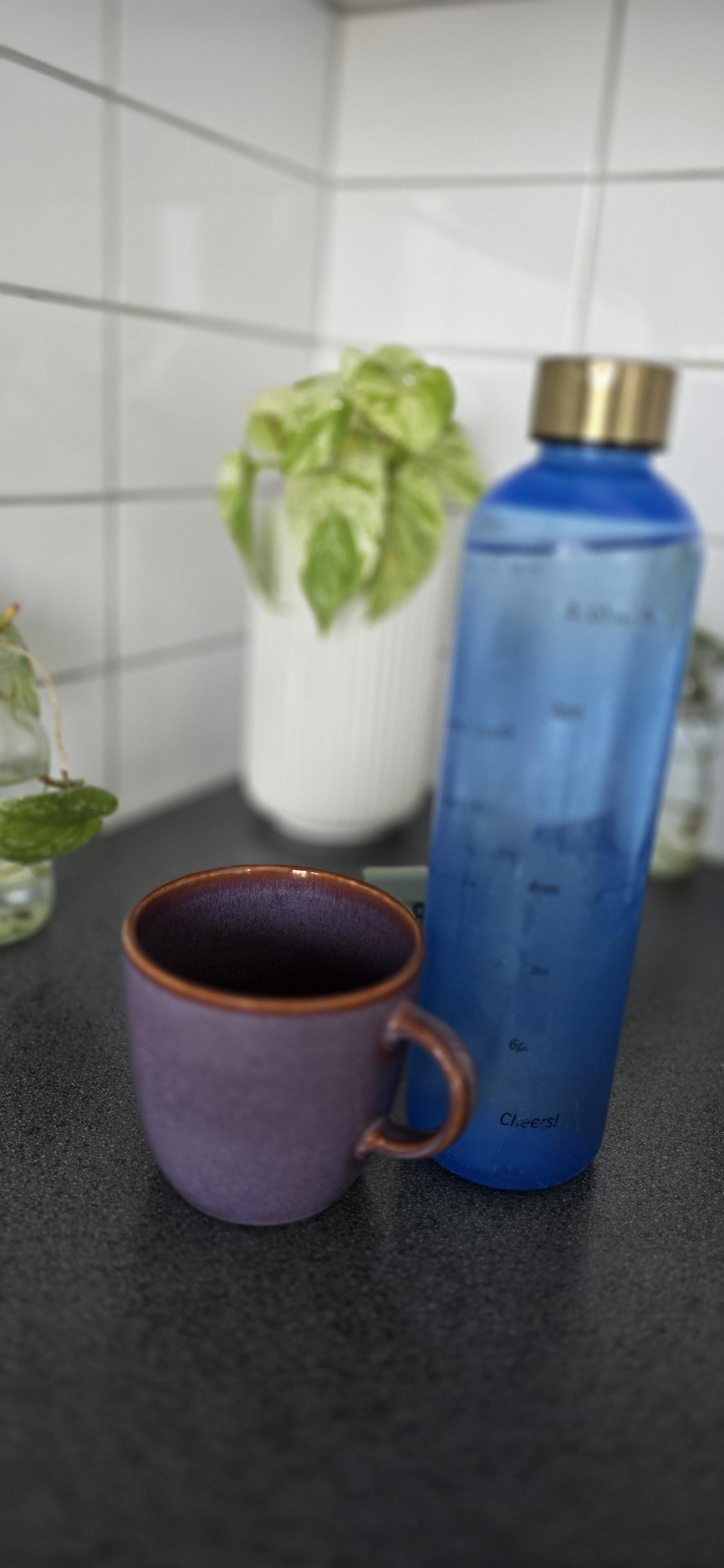bottle: (486, 275, 686, 1320)
